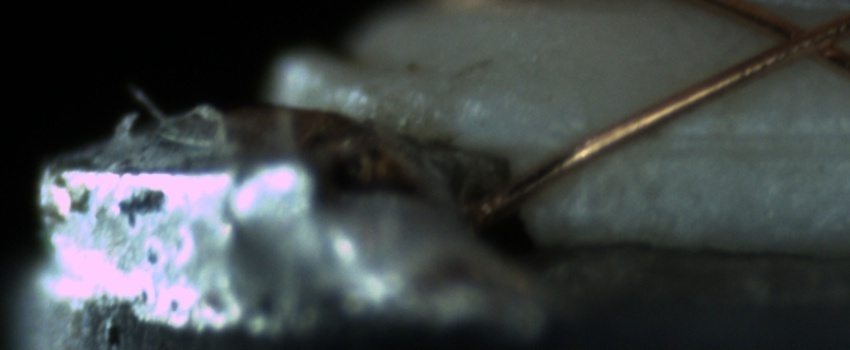CL: (750, 2, 847, 72)
DL: (634, 101, 840, 177)
